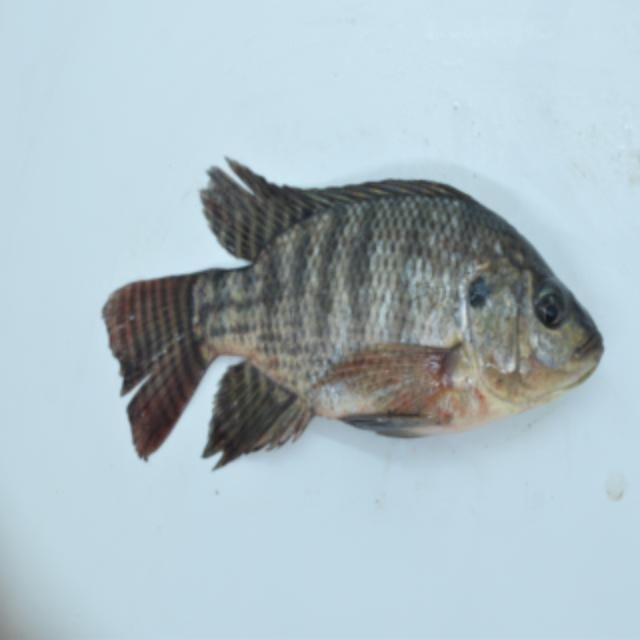Columnaris Disease: (104, 147, 610, 476)
